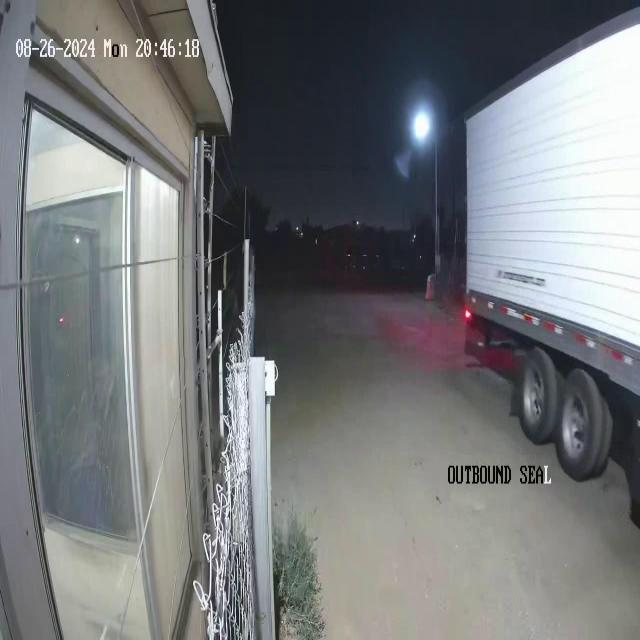TRUCK_CONTAINER: (461, 4, 639, 504)
